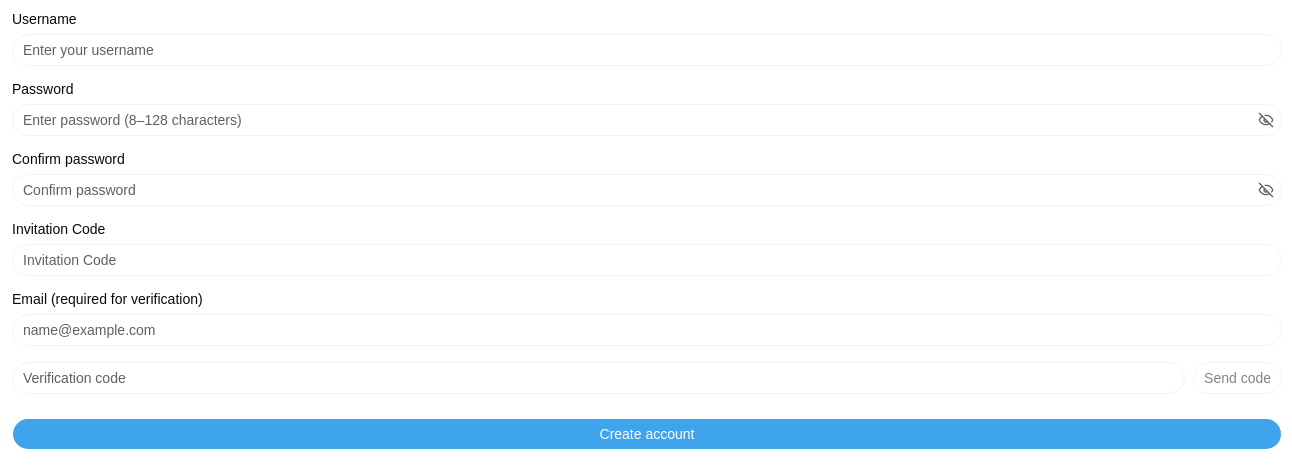
Test case: 注册邀请码规则 › 开启邮箱验证时，邮箱逐字输入触发表单刷新仍保留已填字段和焦点
Expected: the button "Create account" is shown, left=12, top=418, right=1282, bottom=450
In the field labelled "Username": [647, 50] box left=12, top=34, right=1282, bottom=66, type "new-user"
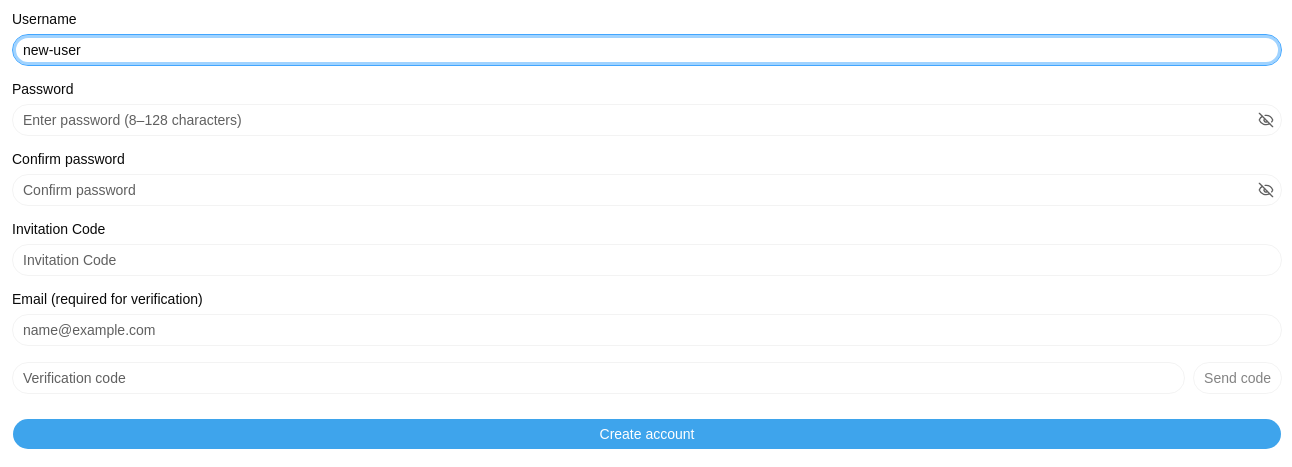
In the password field labelled "Password": [647, 120] box left=12, top=104, right=1282, bottom=136, type "secure-password123"
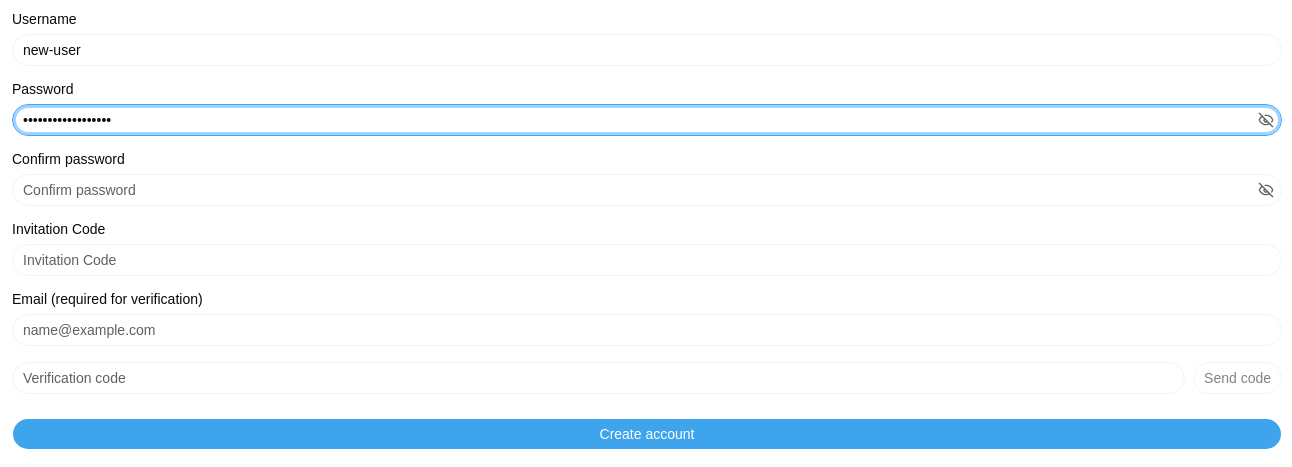
In the password field labelled "Confirm password": [647, 190] box left=12, top=174, right=1282, bottom=206, type "secure-password123"
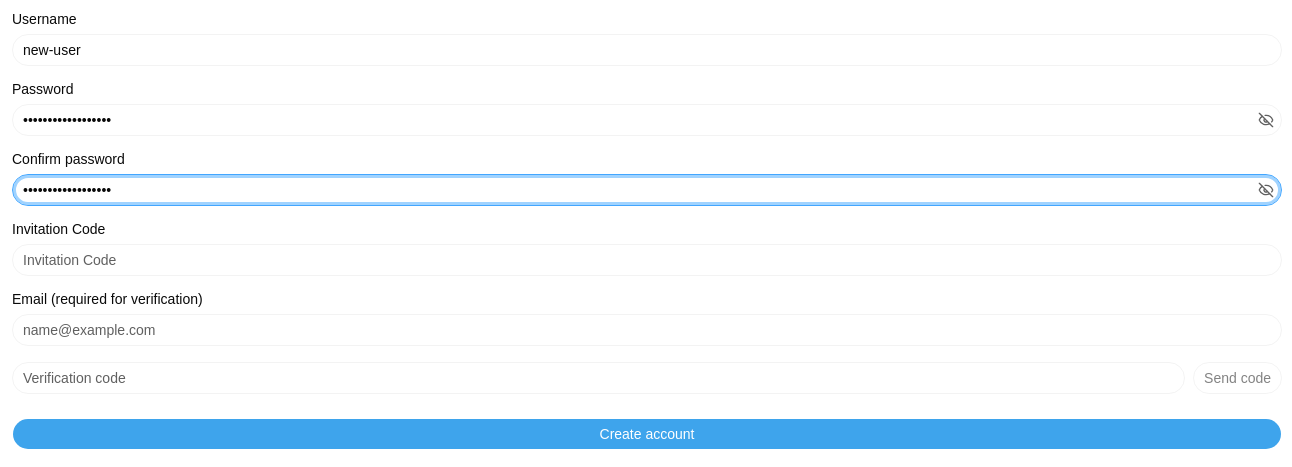
Expected: the button "Send code" is disabled, left=1193, top=362, right=1282, bottom=394
In the field labelled "Email (required for verification)": [647, 330] box left=12, top=314, right=1282, bottom=346, type "test@example.com"
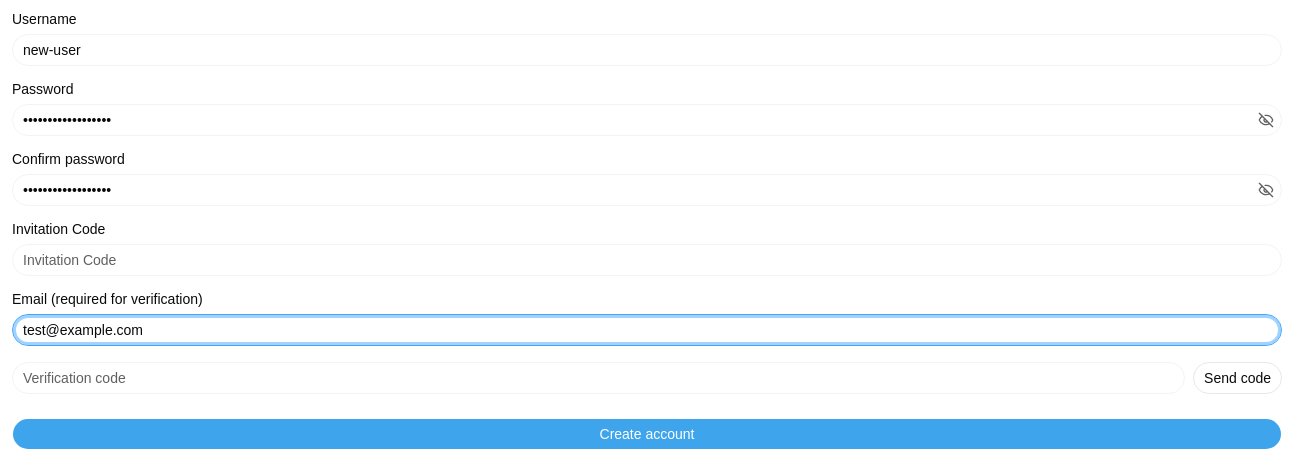
Expected: the button "Send code" is enabled, left=1193, top=362, right=1282, bottom=394
Clear the field labelled "Email (required for verification)": [647, 330] box left=12, top=314, right=1282, bottom=346
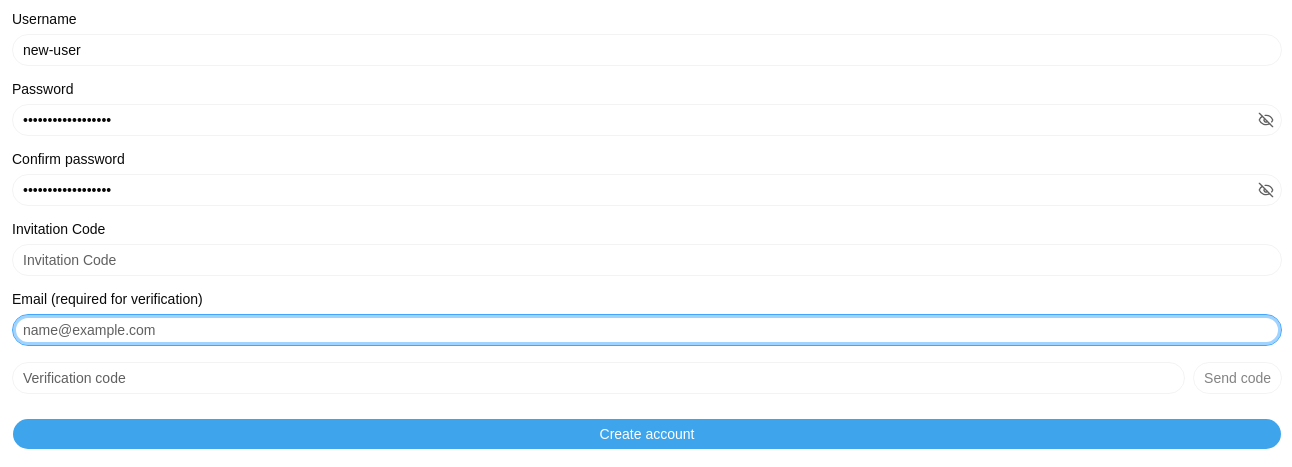
Expected: the button "Send code" is disabled, left=1193, top=362, right=1282, bottom=394
